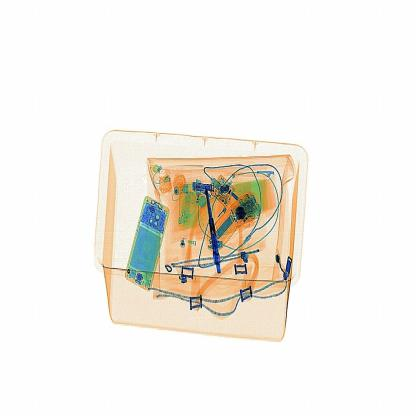gun: (193, 179, 229, 280)
